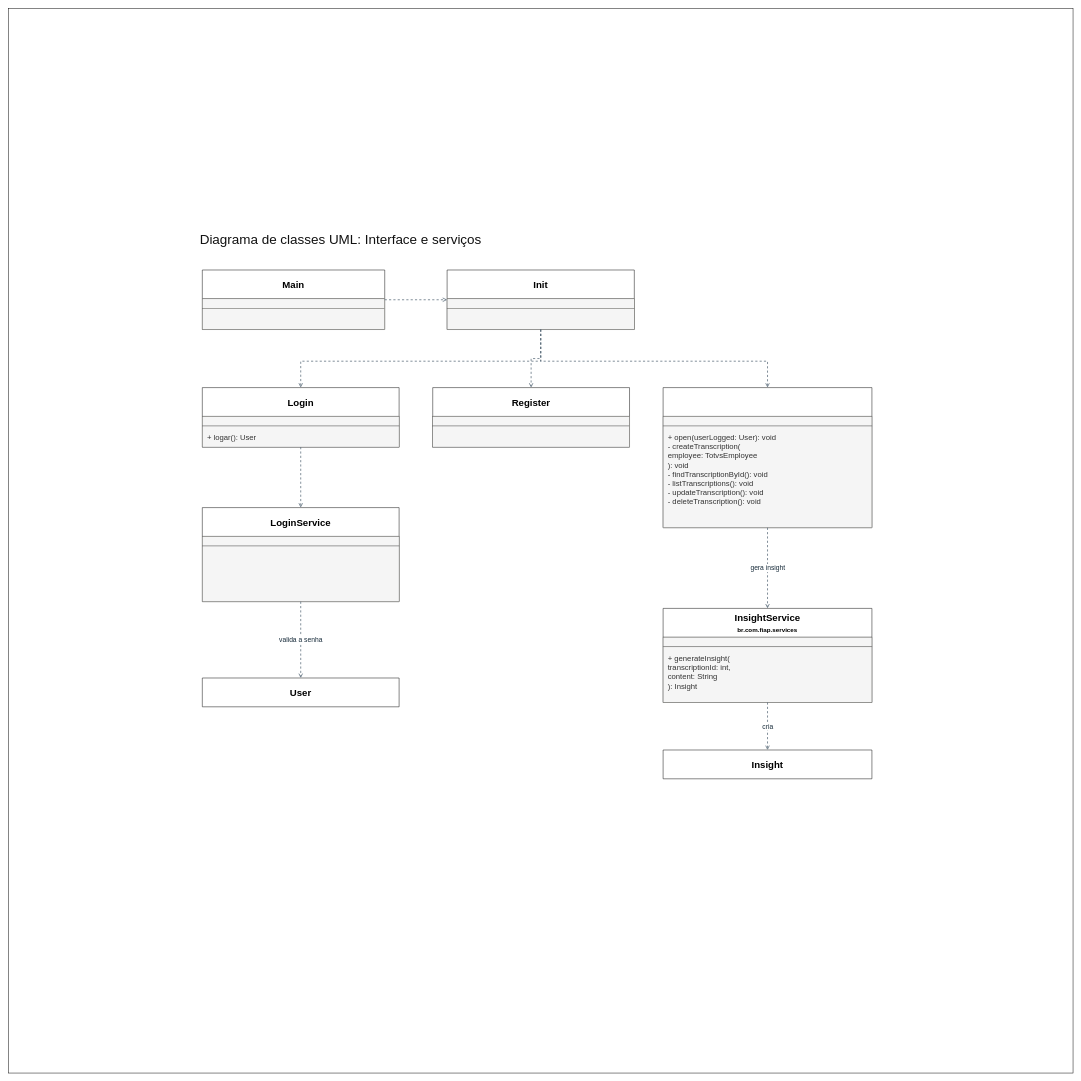
Some shapes in this 1081 by 1081 pixel diagram are drawn without their labels. The shapes that lost their labels are listed below. From the top down, each one's box as (x1, y1, x2, y2) in pixels, then its label:
(202, 308, 385, 330): + main(args: String[]): void
(447, 308, 634, 330): + mainPanel(): void
(432, 426, 630, 447): + registrar(): int
(663, 387, 872, 528): TranscriptionPanel
(202, 546, 399, 602): + login( userEmail: String, password: String ): User
